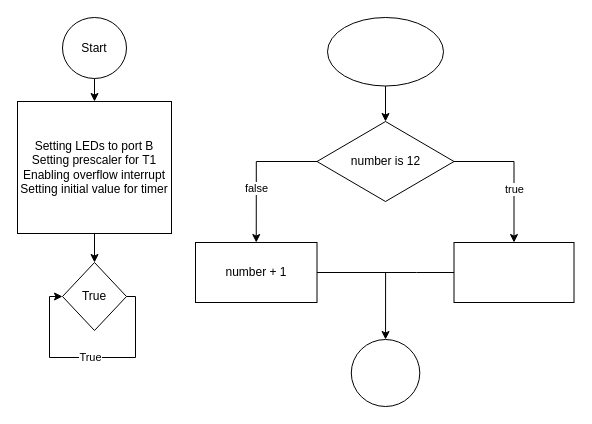
This 592x424 diagram has some shape labels left out. The centre of each missing label's shape, as x and y in pixels:
"End of interrupt" goes at point 385,372.
"number = 0" goes at point 513,272.
"Overflow interrupt" goes at point 385,51.
